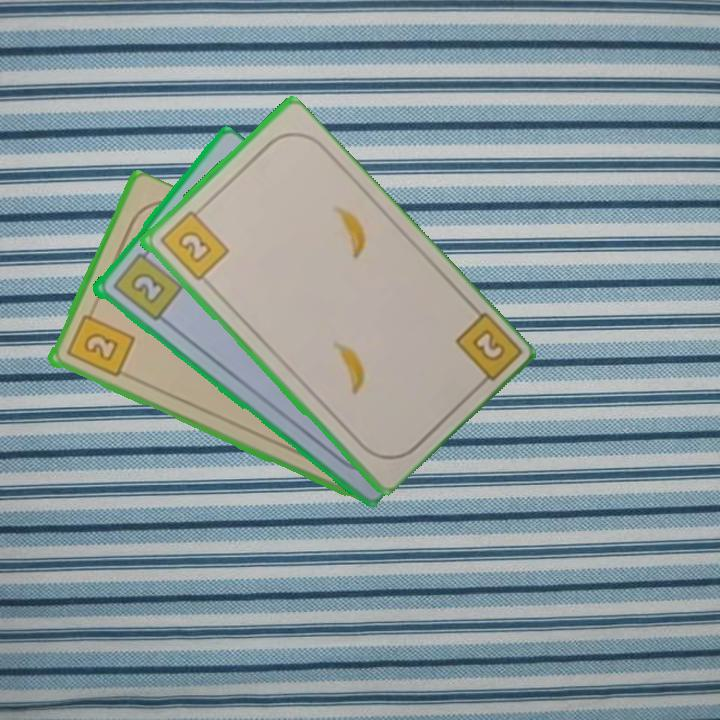2b: (108, 244, 185, 324), (155, 203, 231, 284), (450, 308, 521, 394), (62, 303, 137, 381)
